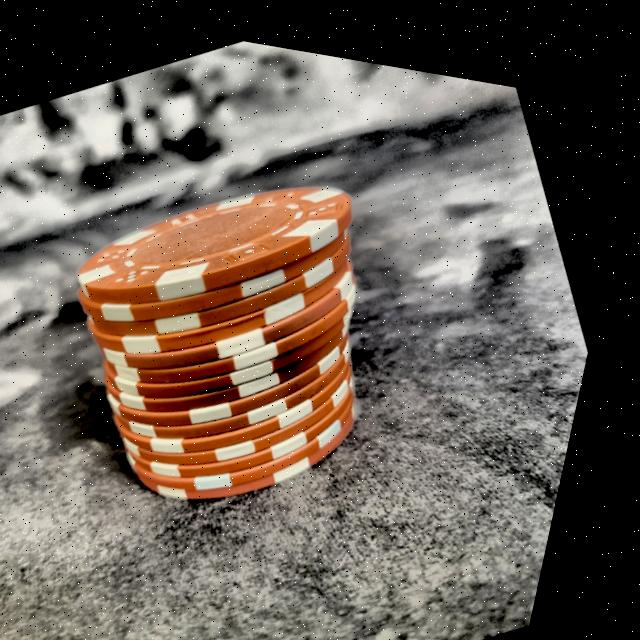Chip: (0, 87, 500, 582)
